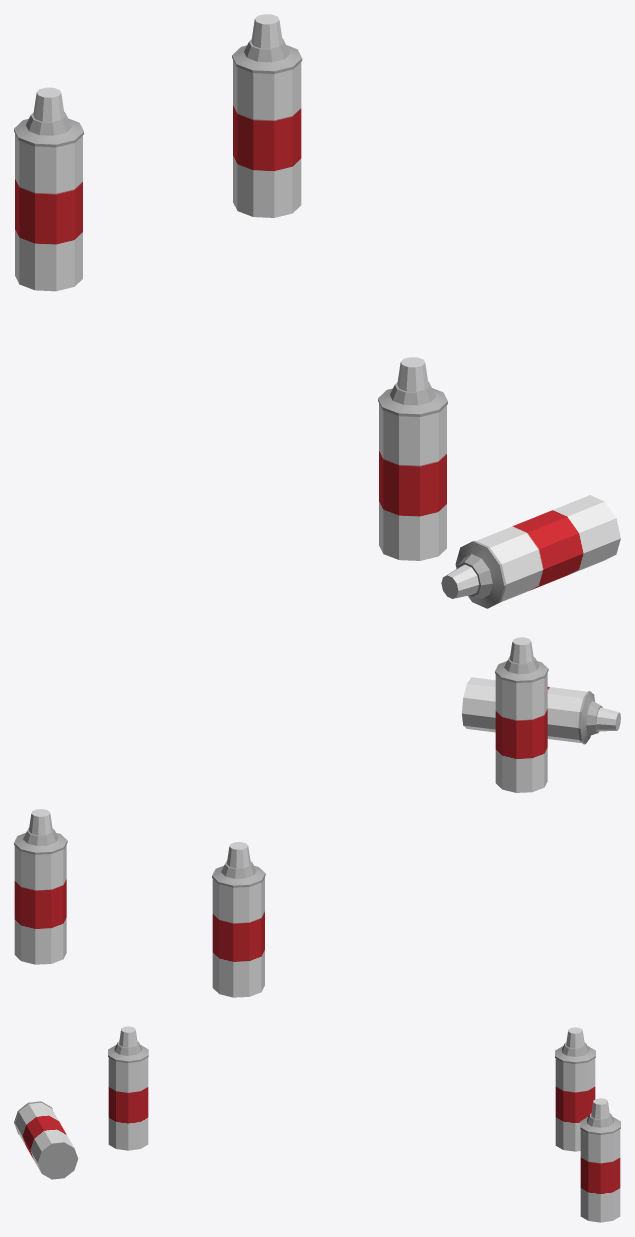
Rendered from obj_paint_spray_red_2.fbx.
The picture shows the model from 3 angles, top to bottom: view 1: azimuth 30°, elevation 25°; view 2: azimuth 150°, elevation 25°; view 3: azimuth 270°, elevation 25°; orthographic projection. The views are drawn at different scales.
Parts seen in each view (by area): view 1: obj_paint_spray_red_4, obj_paint_spray_red_5, obj_paint_spray_red_3, obj_paint_spray_red_2; view 2: obj_paint_spray_red_5, obj_paint_spray_red_4, obj_paint_spray_red_3, obj_paint_spray_red_2; view 3: obj_paint_spray_red_4, obj_paint_spray_red_3, obj_paint_spray_red_5, obj_paint_spray_red_2.
Part boxes in pixels (box(x1,y1,x2,y2)): obj_paint_spray_red_4: box(232, 14, 302, 217); obj_paint_spray_red_5: box(14, 87, 83, 291); obj_paint_spray_red_3: box(378, 357, 447, 560); obj_paint_spray_red_2: box(441, 495, 620, 608); obj_paint_spray_red_5: box(212, 842, 265, 997); obj_paint_spray_red_4: box(14, 809, 67, 964); obj_paint_spray_red_3: box(495, 637, 548, 792); obj_paint_spray_red_2: box(461, 677, 620, 744); obj_paint_spray_red_4: box(580, 1098, 620, 1222); obj_paint_spray_red_3: box(108, 1026, 148, 1150); obj_paint_spray_red_5: box(555, 1027, 595, 1151); obj_paint_spray_red_2: box(14, 1101, 78, 1179).
Size of the model in its own units: 0.7438 by 0.41 by 2.01.
1 material, 1 textured.
